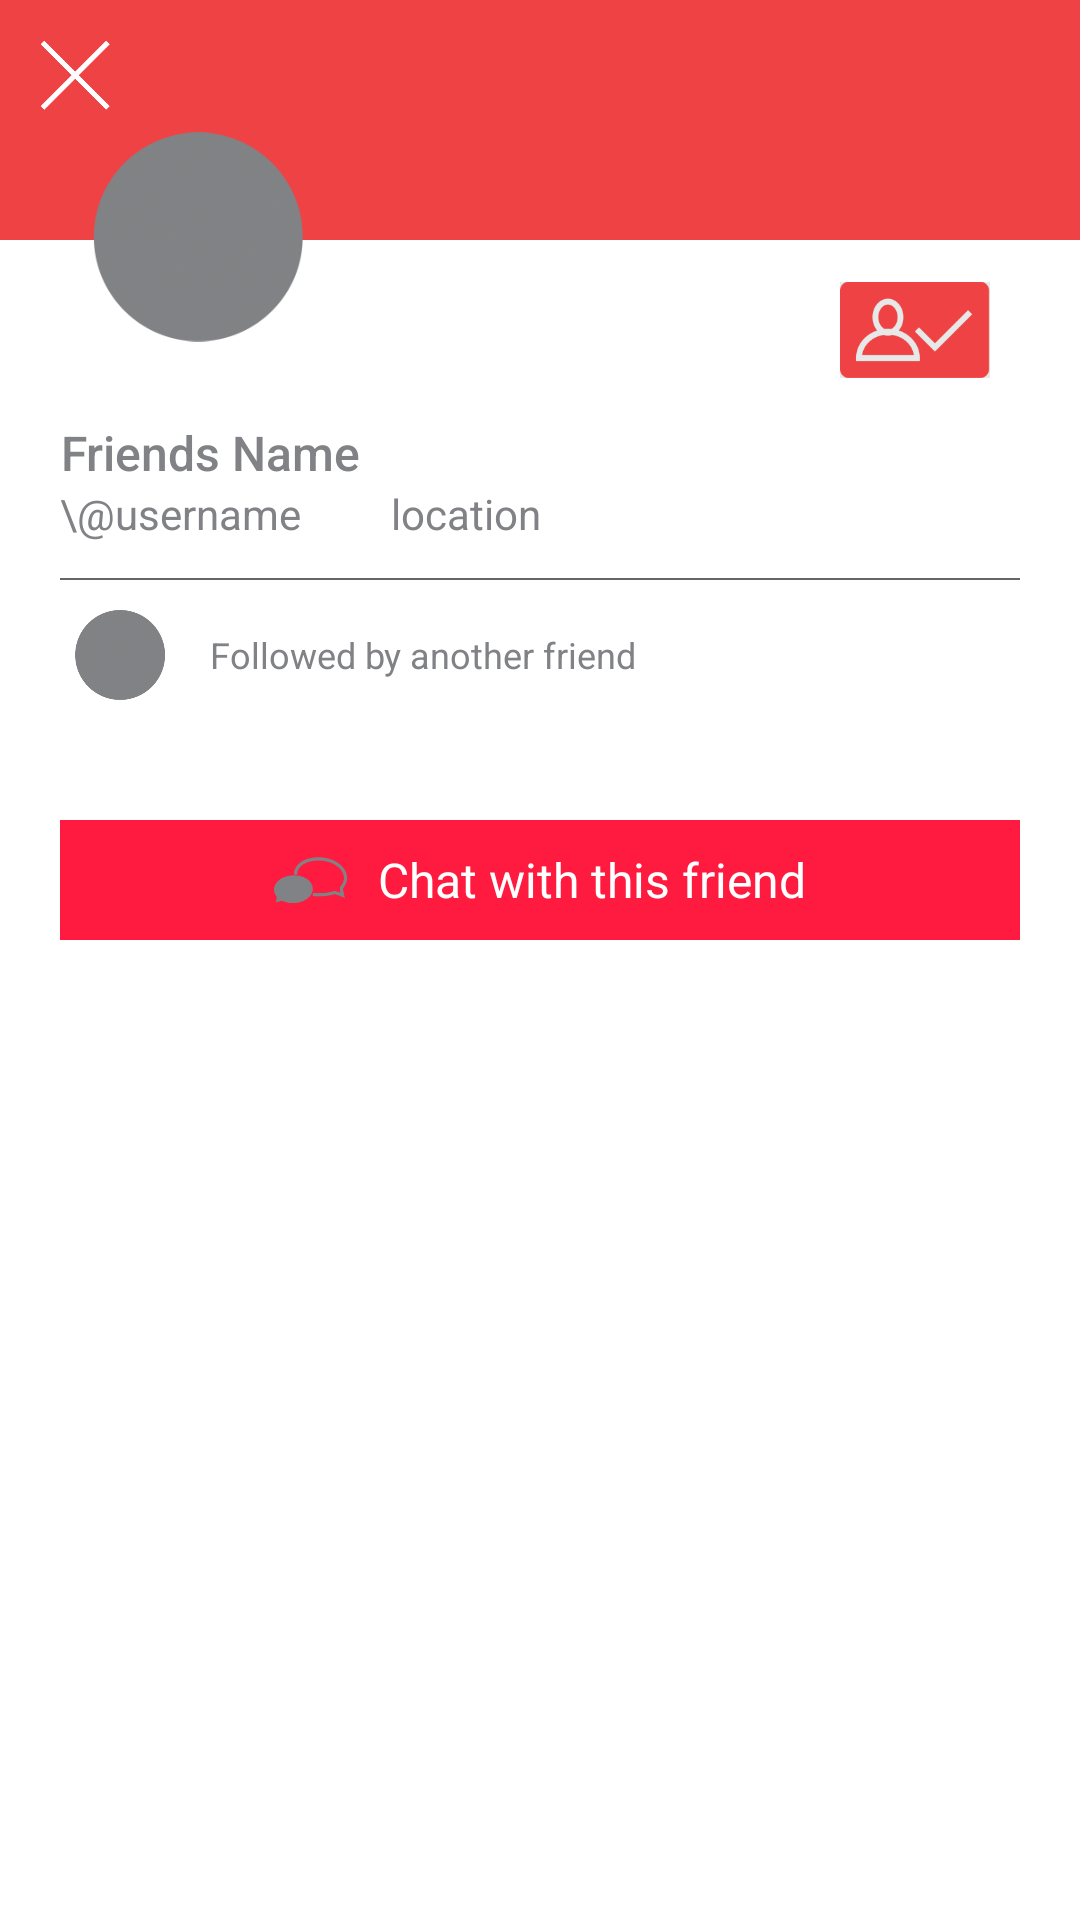

Icons on this 1080px×1920px Android screen, each with the point to tap as [x,y]:
cross: [75,75]
select friend: [915,330]
